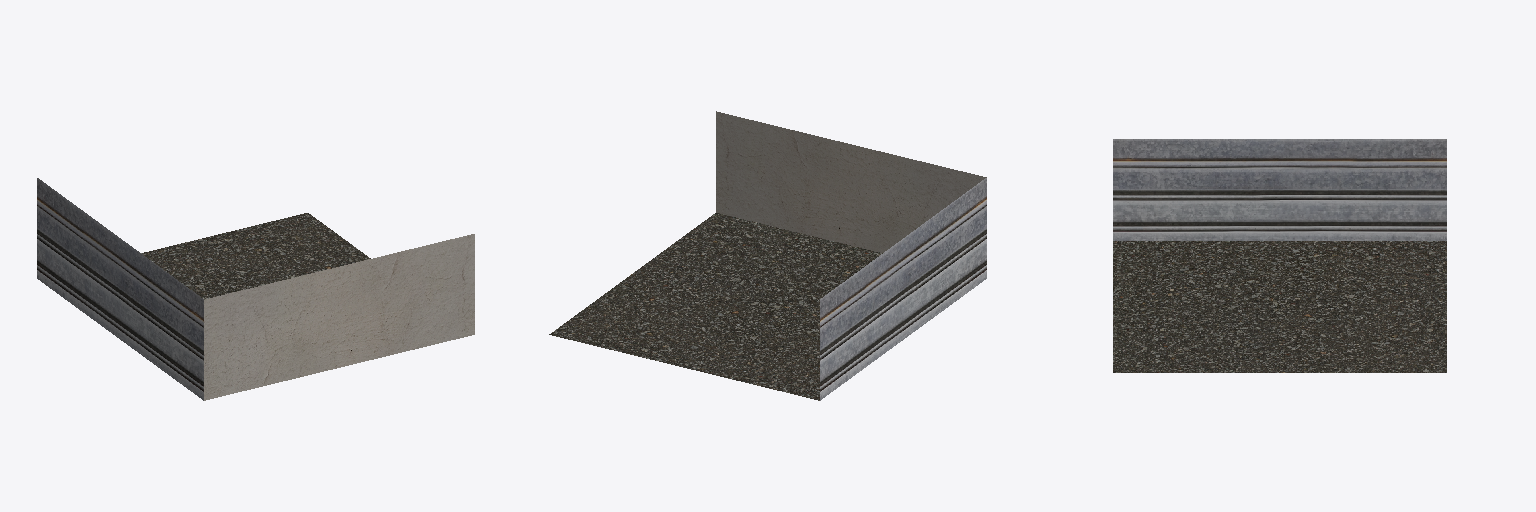
3 renders of one model, left to right at view 1: azimuth 30°, elevation 25°; view 2: azimuth 150°, elevation 25°; view 3: azimuth 270°, elevation 25°, orthographic.
Parts seen in each view (by area): view 1: garage; view 2: garage; view 3: garage.
Part boxes in pixels (x1,y1,x2,y2): garage: (37,178,474,400); garage: (549,111,986,400); garage: (1113,139,1446,372).
Bounding box in the file's own units: 0.9085 × 0.3251 × 0.9693.
Materials: 3 (3 with a texture image).